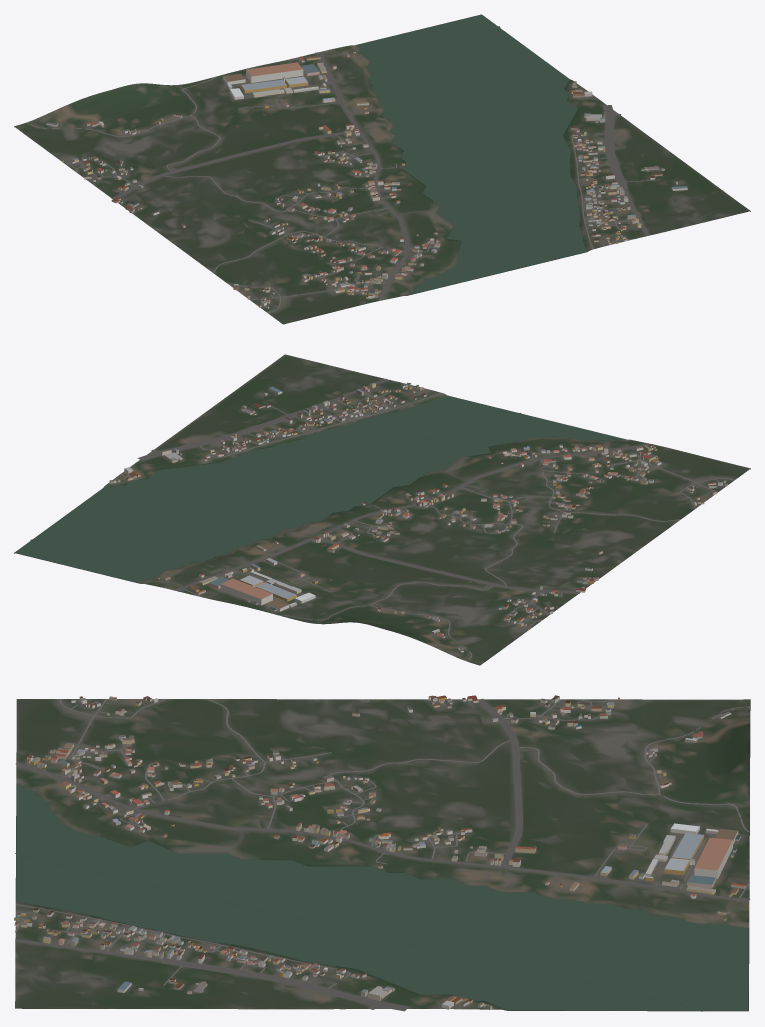
3 renders of one model, top to bottom at view 1: azimuth 30°, elevation 25°; view 2: azimuth 150°, elevation 25°; view 3: azimuth 270°, elevation 25°, orthographic. The views are drawn at different scales.
Parts seen in each view (by area): view 1: ground, water, buildings, roads; view 2: ground, water, buildings, roads; view 3: ground, water, buildings, roads.
Boxes of the visible parts, x1,y1,x2,y2 form: ground: (14, 16, 750, 324); water: (356, 14, 586, 294); buildings: (46, 51, 687, 308); roads: (27, 52, 660, 312); ground: (14, 354, 750, 665); water: (15, 395, 625, 582); buildings: (109, 382, 727, 652); roads: (109, 379, 734, 661); ground: (15, 699, 750, 1011); water: (15, 783, 748, 1011); buildings: (14, 695, 745, 1009); roads: (15, 698, 750, 1011).
Bounding box in the file's own units: 1420 × 46.4 × 1408.
